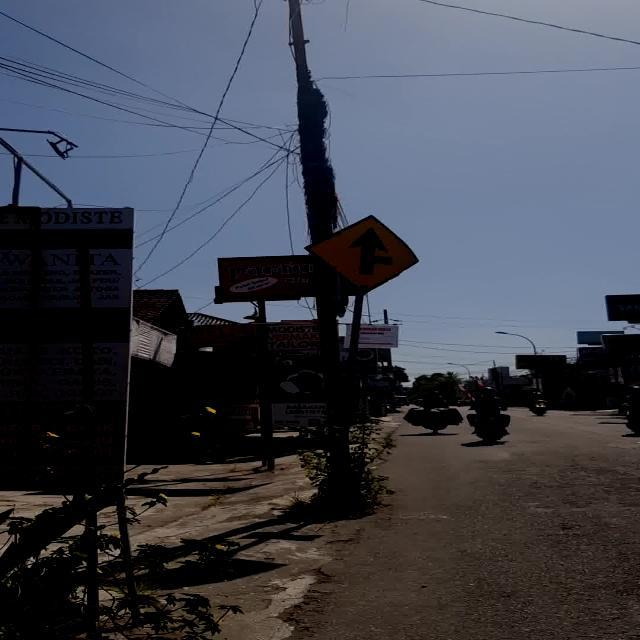Persimpangan 3 Prioritas Kanan: (304, 214, 418, 294)
